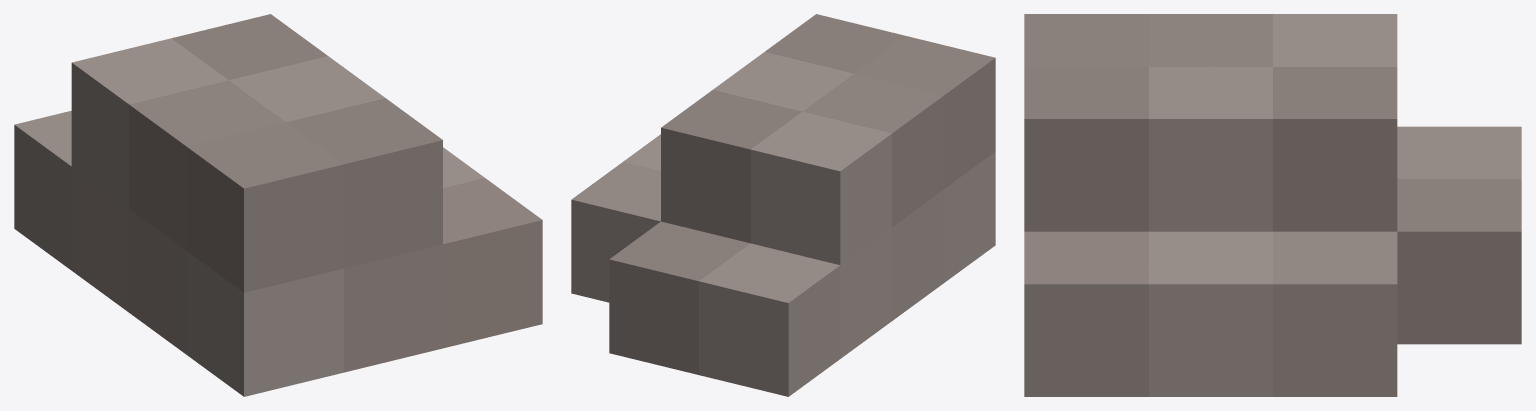
Rendered from rocks_2 1.fbx.
3 views of the same model, side by side, from view 1: azimuth 30°, elevation 25°; view 2: azimuth 150°, elevation 25°; view 3: azimuth 270°, elevation 25° (orthographic). The views are drawn at different scales.
Visible parts, largest first — view 1: rocks_2; view 2: rocks_2; view 3: rocks_2.
Boxes of the visible parts, x1=… form: rocks_2: x1=14, y1=14, x2=542, y2=396; rocks_2: x1=571, y1=14, x2=995, y2=396; rocks_2: x1=1024, y1=14, x2=1521, y2=396.
Bounding box in the file's own units: 3 × 2 × 4.
Materials: 1 (1 with a texture image).
